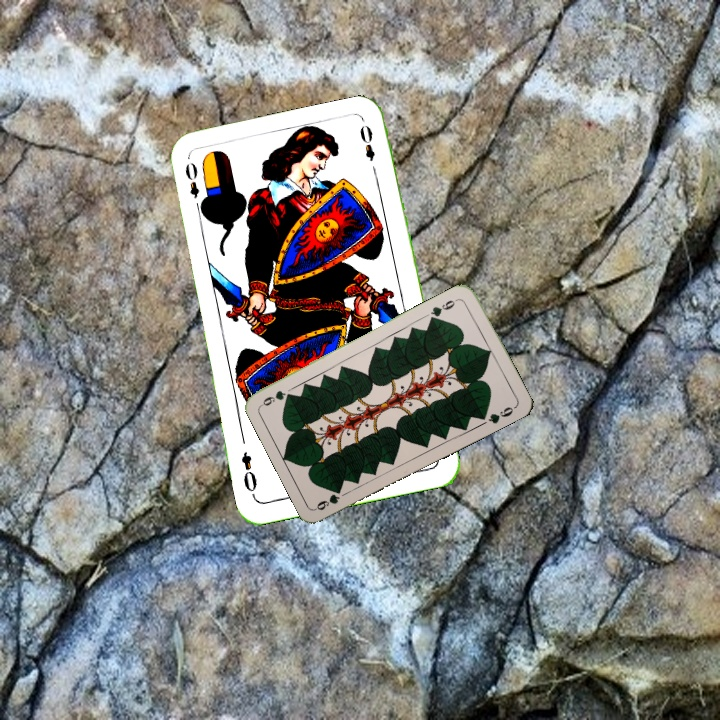EO: (181, 158, 207, 215)
G9: (426, 294, 462, 322), (312, 484, 344, 513)
